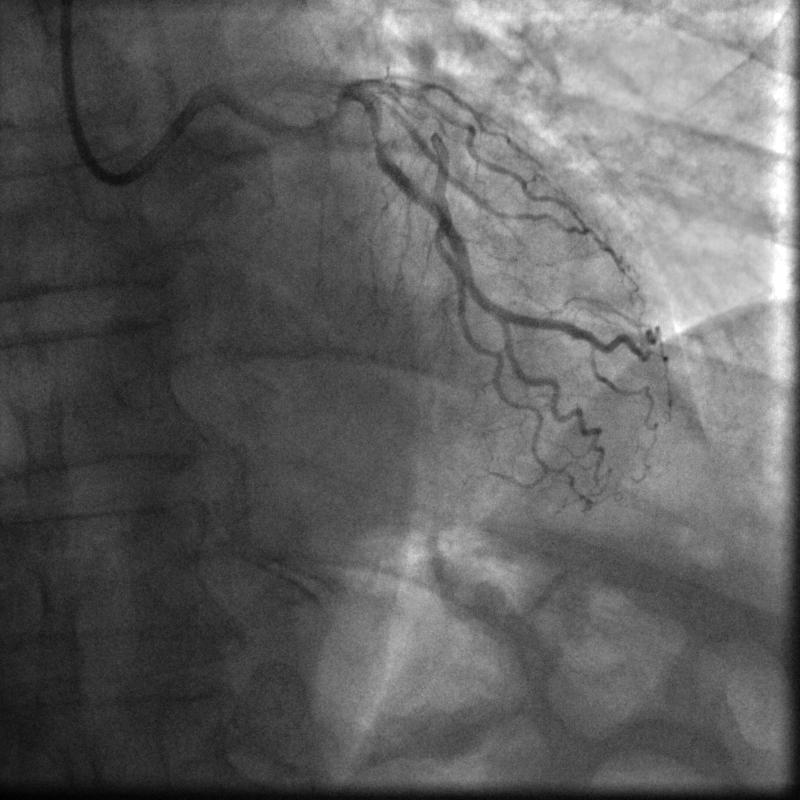Stenosis: (371, 129, 385, 148)
